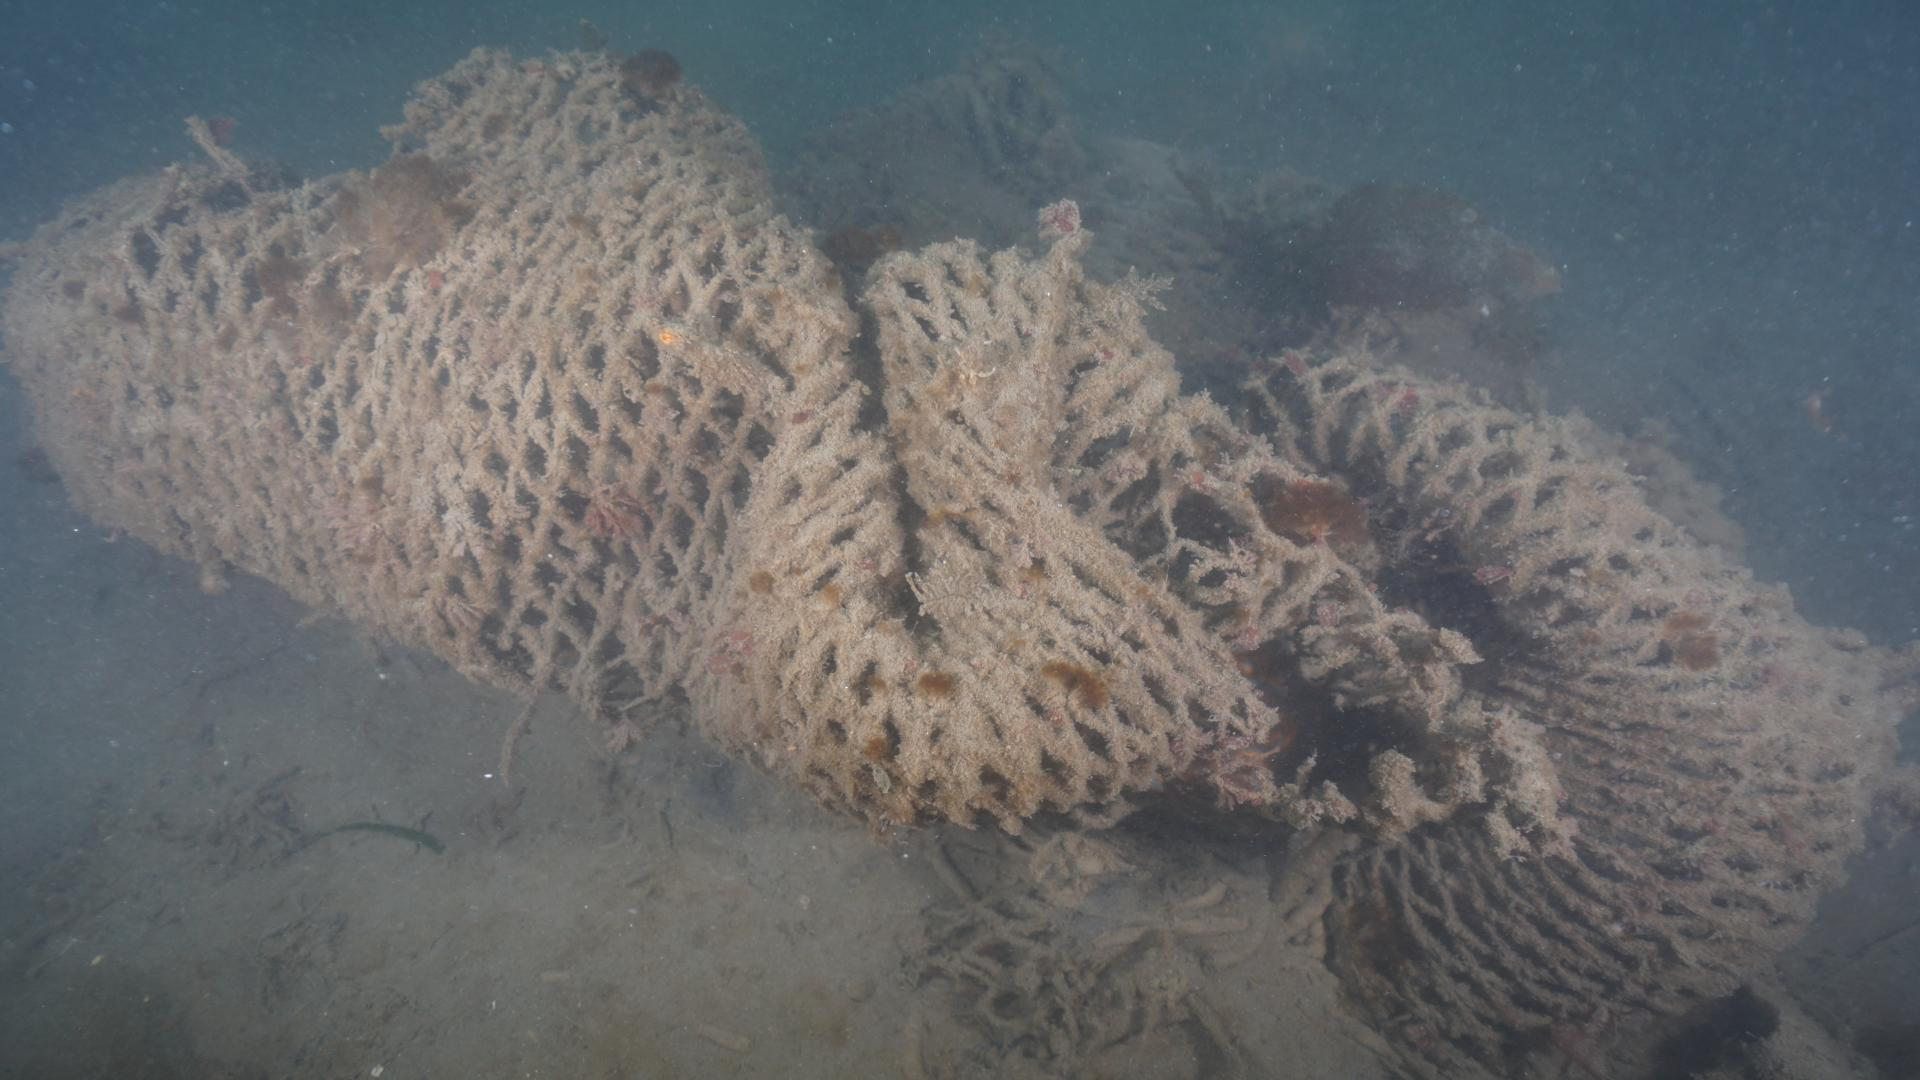fish net: (0, 40, 1920, 1080)
